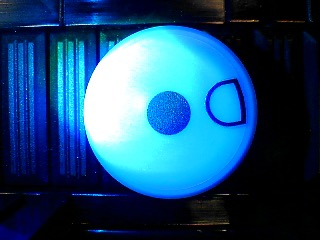BOHOMIPO1: (83, 25, 258, 200)
